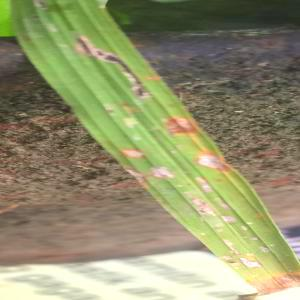1 RiceBlast: (72, 28, 153, 97), (191, 144, 234, 176), (136, 158, 179, 187), (166, 108, 200, 141), (123, 137, 152, 168)
